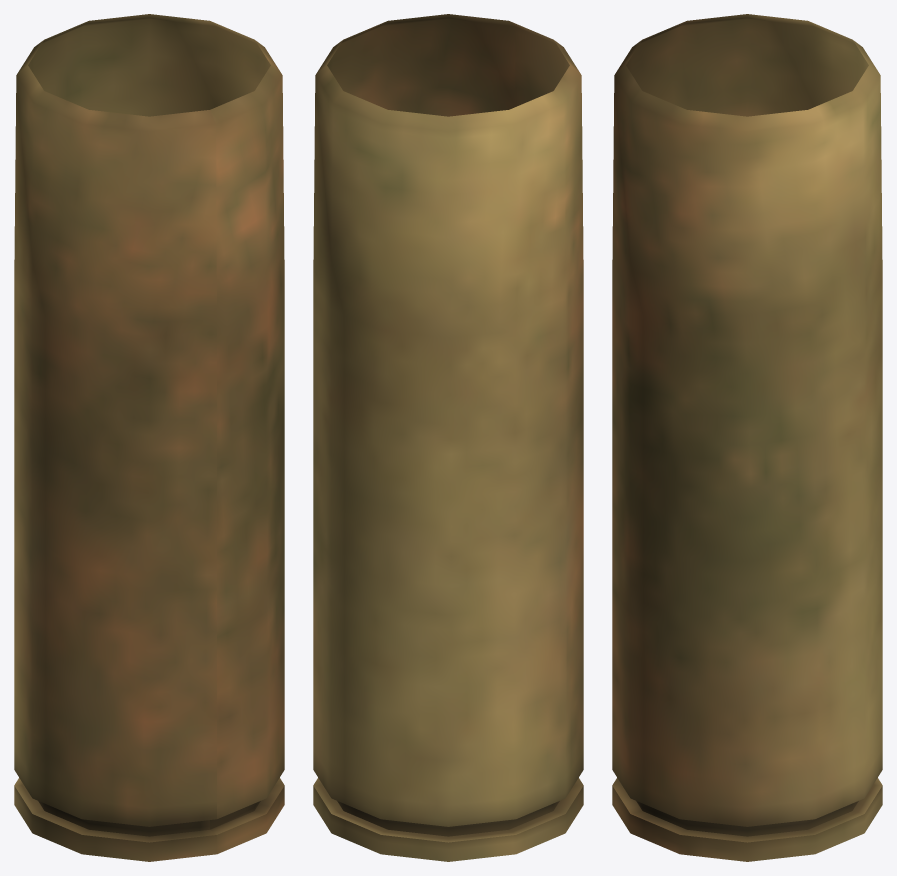
3 renders of one model, left to right at view 1: azimuth 30°, elevation 25°; view 2: azimuth 150°, elevation 25°; view 3: azimuth 270°, elevation 25°, orthographic.
Visible parts, largest first — view 1: bullet.001; view 2: bullet.001; view 3: bullet.001.
Part boxes in pixels (box(x1,y1,x2,y2)): bullet.001: box(14, 14, 284, 861); bullet.001: box(313, 14, 583, 861); bullet.001: box(612, 14, 882, 861).
Size of the model in its own units: 150 by 460 by 150.
